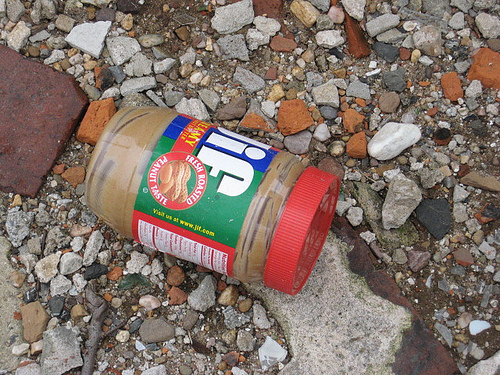litter: (84, 104, 340, 295)
